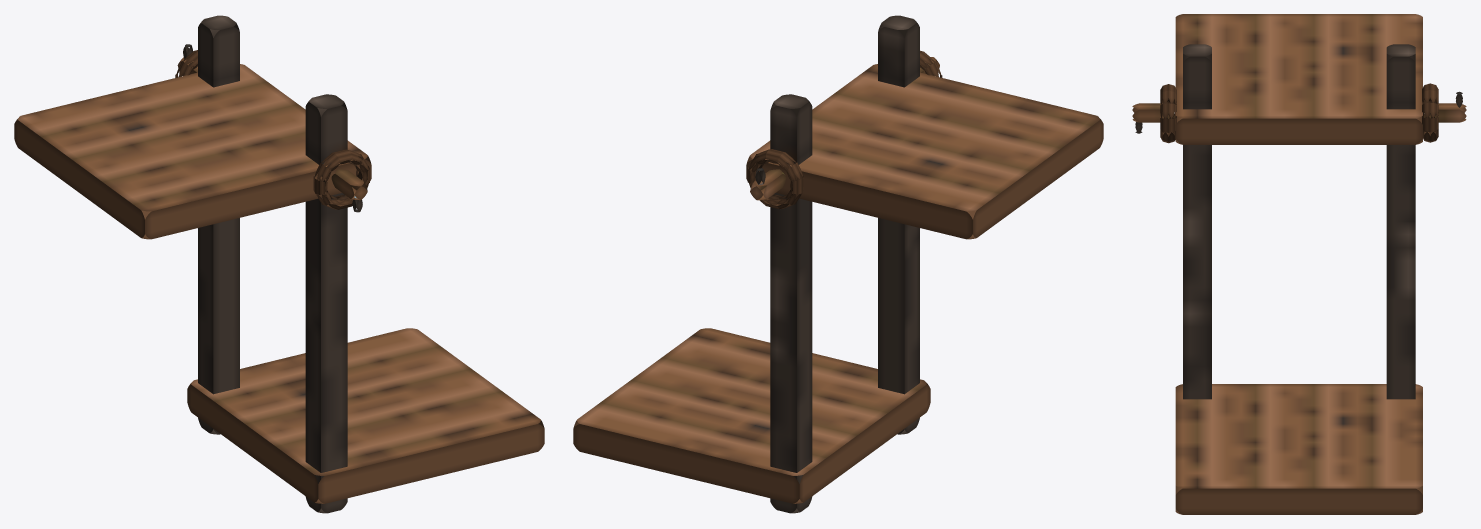
The model's file is port.fbx.
The picture shows the model from 3 angles, left to right: view 1: azimuth 30°, elevation 25°; view 2: azimuth 150°, elevation 25°; view 3: azimuth 270°, elevation 25°; orthographic projection. The views are drawn at different scales.
Parts seen in each view (by area): view 1: cuboid_2, CarryPlatform, cuboid, cuboid_1, torus_1, cuboid_6; view 2: cuboid_2, CarryPlatform, cuboid_1, cuboid, torus, cuboid_3; view 3: CarryPlatform, cuboid_2, cuboid_1, cuboid, torus, torus_1, cuboid_6, cuboid_3.
Part boxes in pixels (x1,y1,x2,y2): cuboid_2: (14,64,371,239); CarryPlatform: (187,328,544,503); cuboid: (305,94,347,513); cuboid_1: (198,15,239,434); torus_1: (313,149,369,209); cuboid_6: (331,169,367,200); cuboid_2: (746,64,1103,239); CarryPlatform: (573,328,930,503); cuboid_1: (770,94,812,513); cuboid: (878,15,919,434); torus: (747,149,803,209); cuboid_3: (750,169,786,200); CarryPlatform: (1175,384,1422,514); cuboid_2: (1175,14,1422,144); cuboid_1: (1386,44,1415,399); cuboid: (1183,44,1211,399); torus: (1422,83,1438,142); torus_1: (1160,84,1176,143); cuboid_6: (1132,103,1174,122); cuboid_3: (1424,103,1466,122).
Bounding box in the file's own units: 188 × 181 × 144.
Materials: 1 (1 with a texture image).
